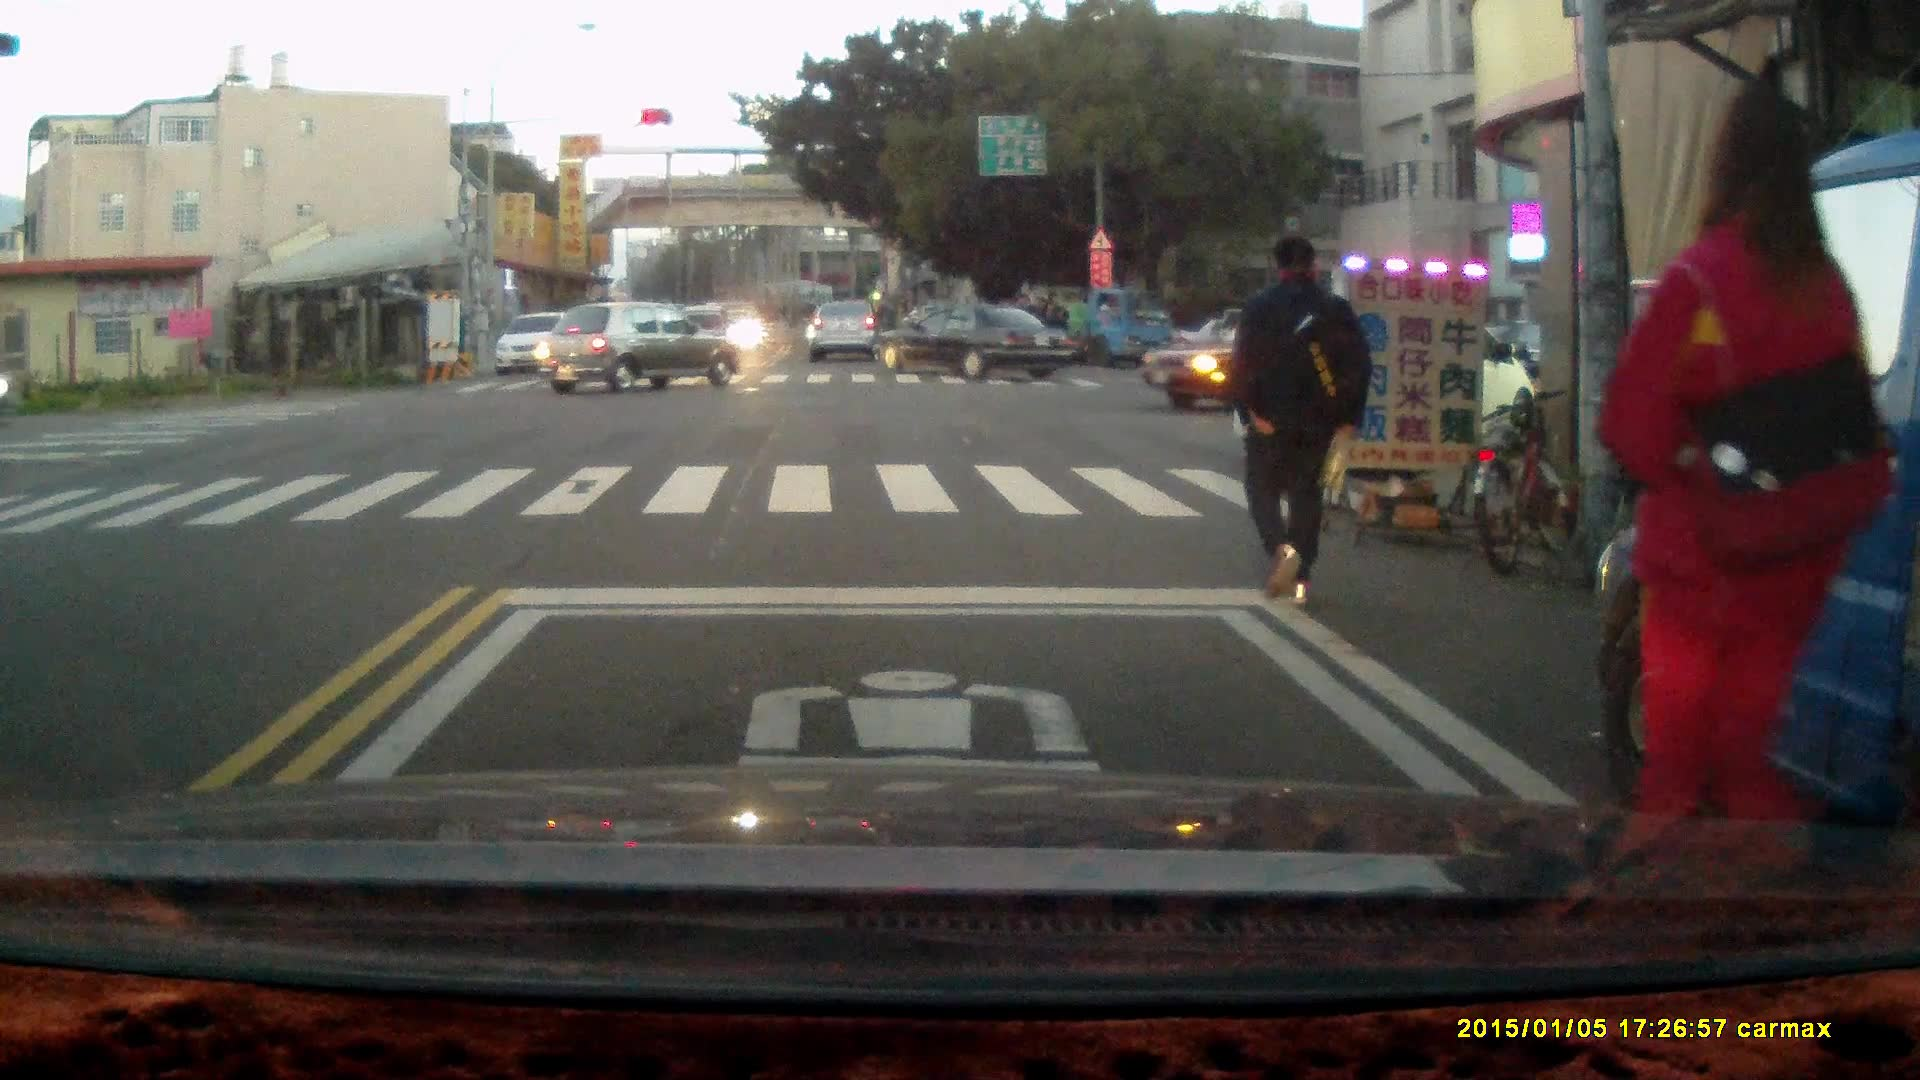pedestrian: (1598, 80, 1898, 851), (1218, 232, 1374, 607), (1040, 288, 1069, 366)
vehicle: (1598, 132, 1920, 854), (1233, 296, 1533, 459), (1137, 304, 1404, 415), (535, 303, 745, 397), (873, 303, 1077, 379), (1002, 284, 1176, 367), (498, 313, 586, 377), (808, 302, 886, 370)
